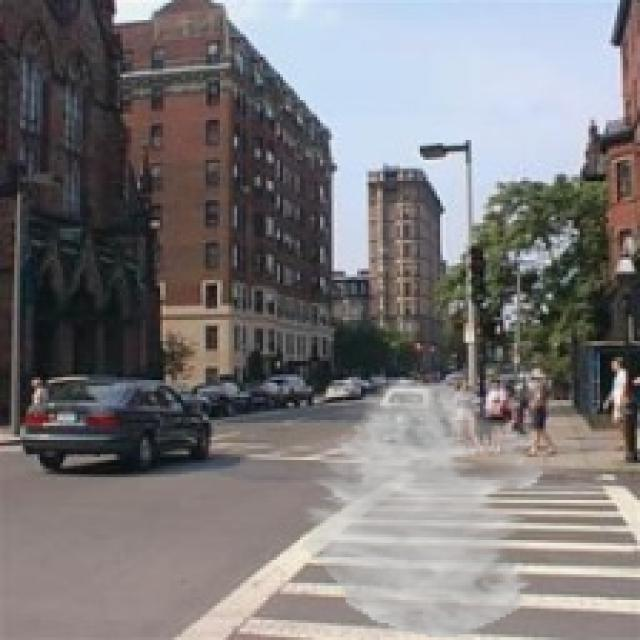Smoke: (300, 380, 543, 637)
